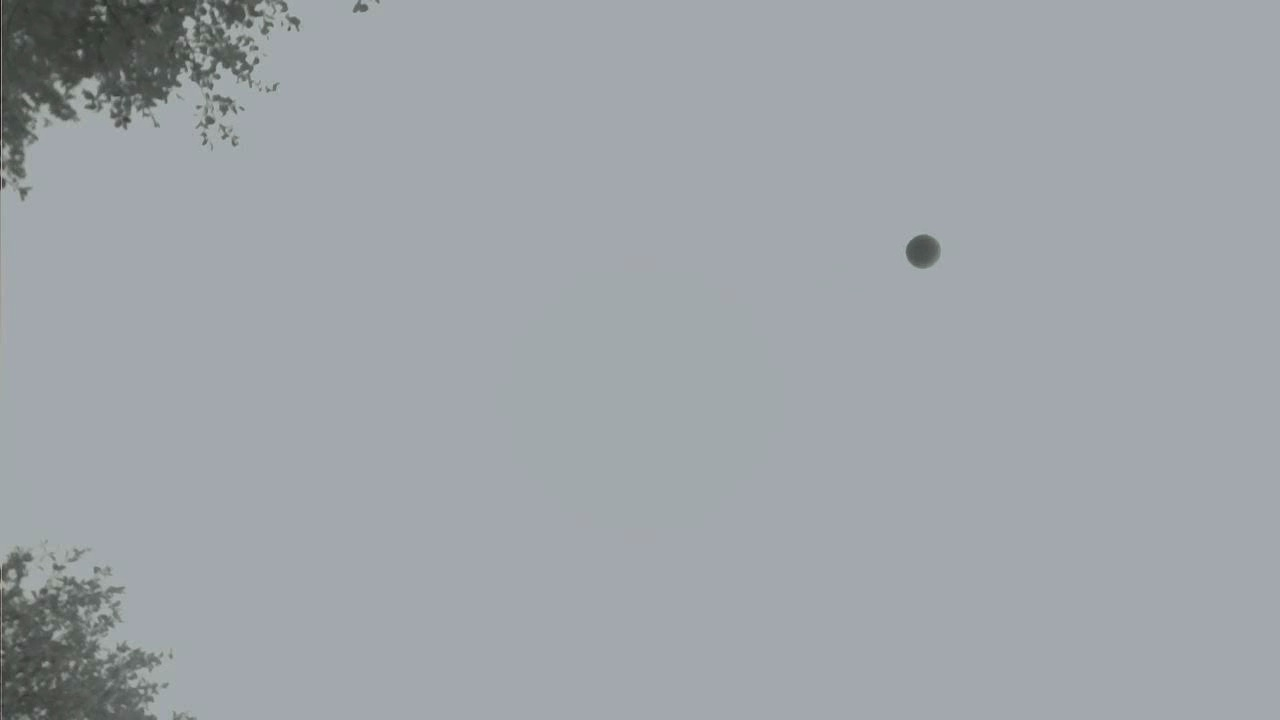Football-Spotter: (906, 235, 940, 268)
